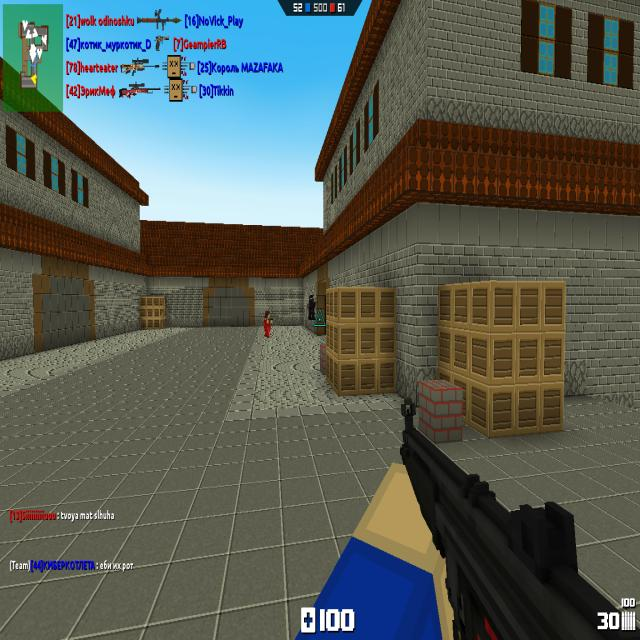enemy: (263, 311, 273, 337), (308, 294, 316, 321)
